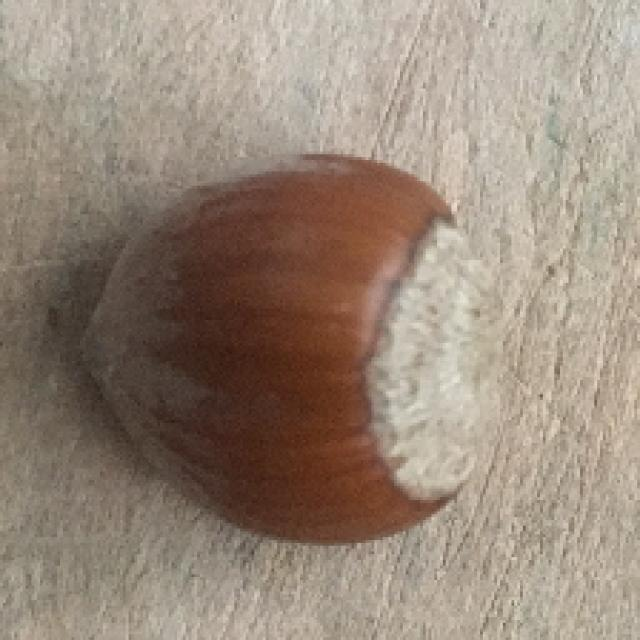qualityHazelnut: (73, 146, 505, 554)
